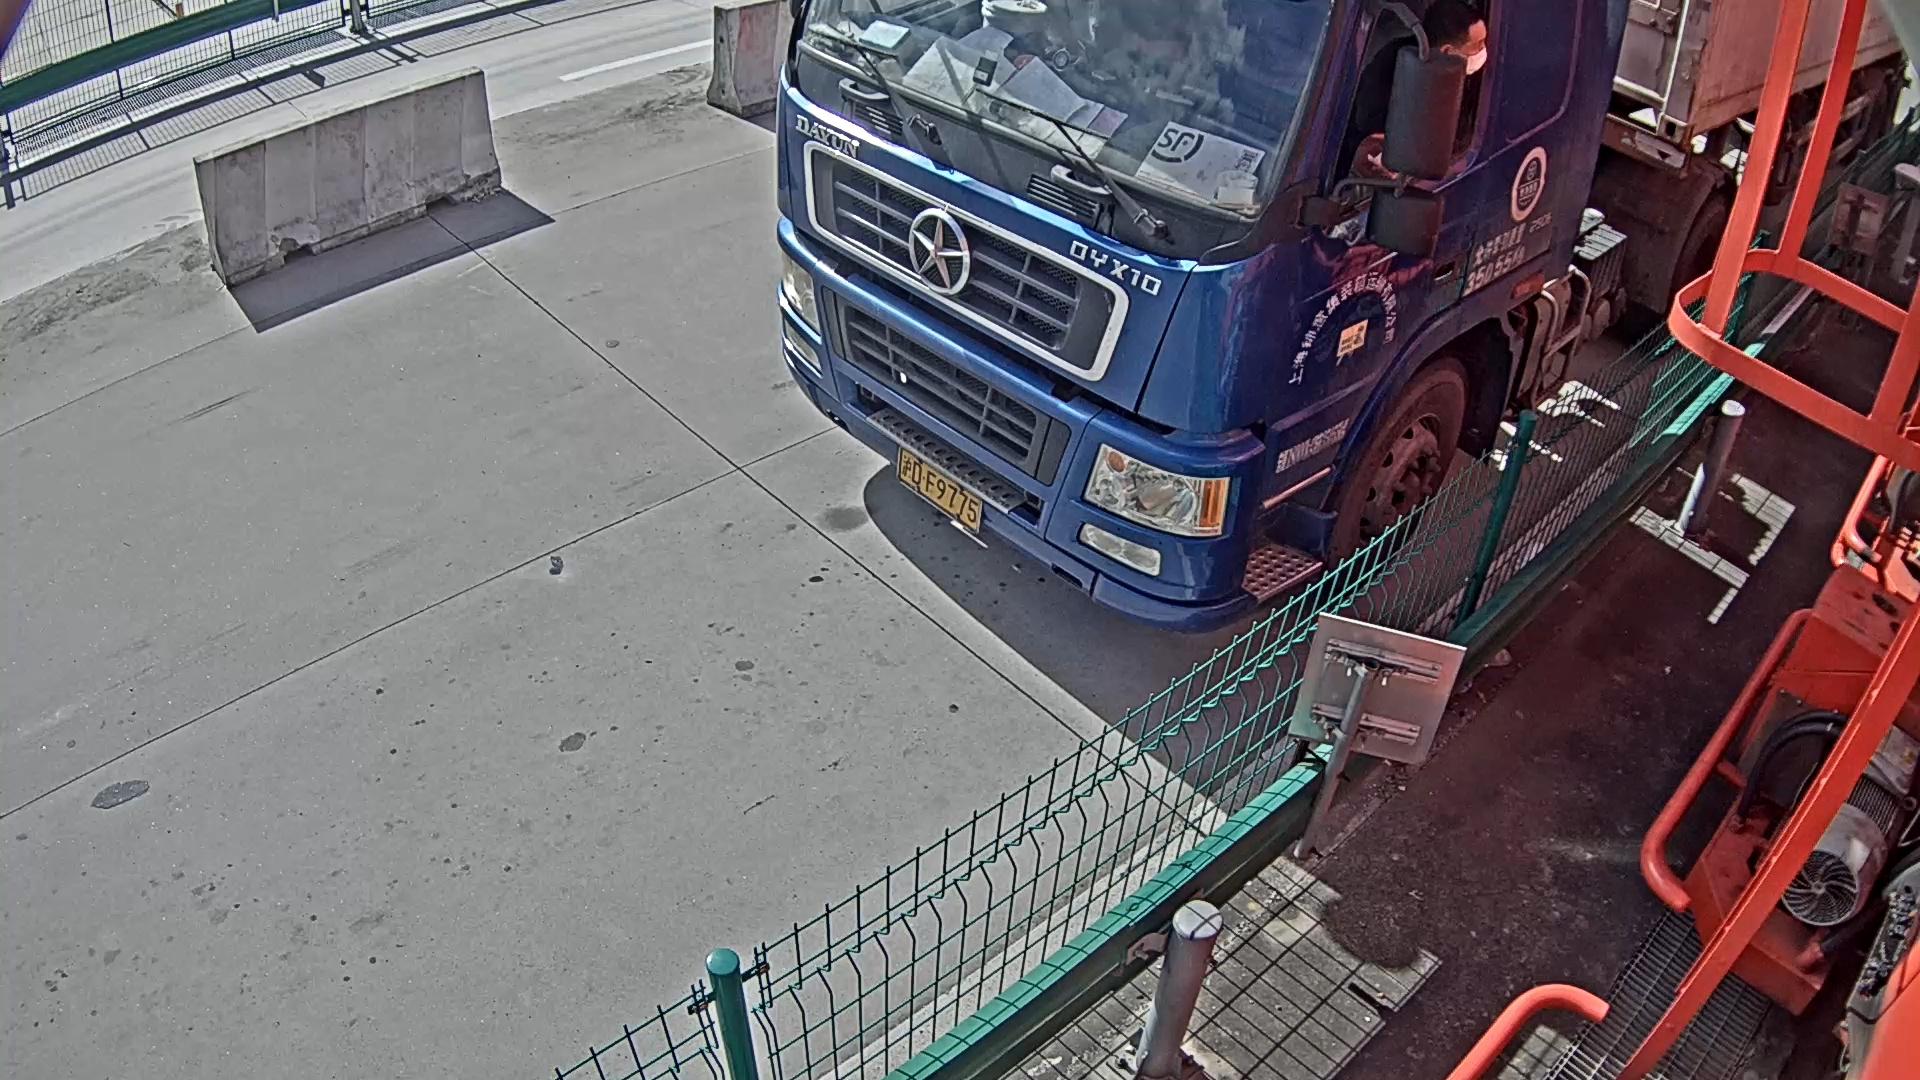head: (768, 1, 1616, 623)
plate: (895, 449, 980, 534)
